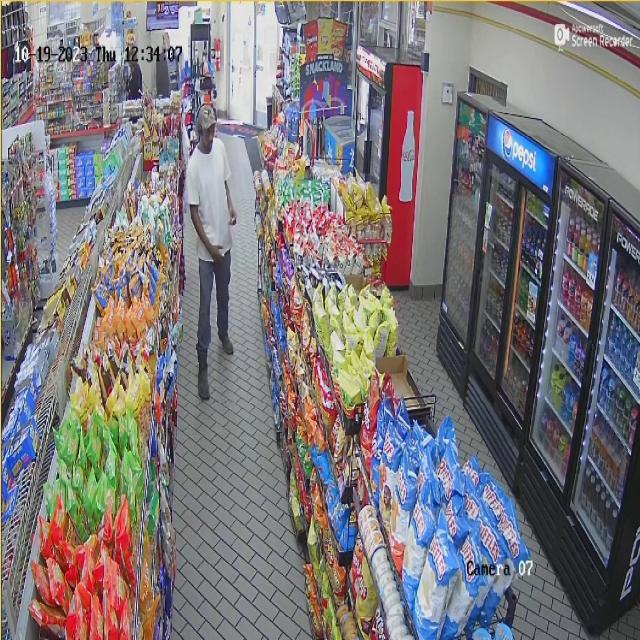Normal: (182, 99, 250, 404)
